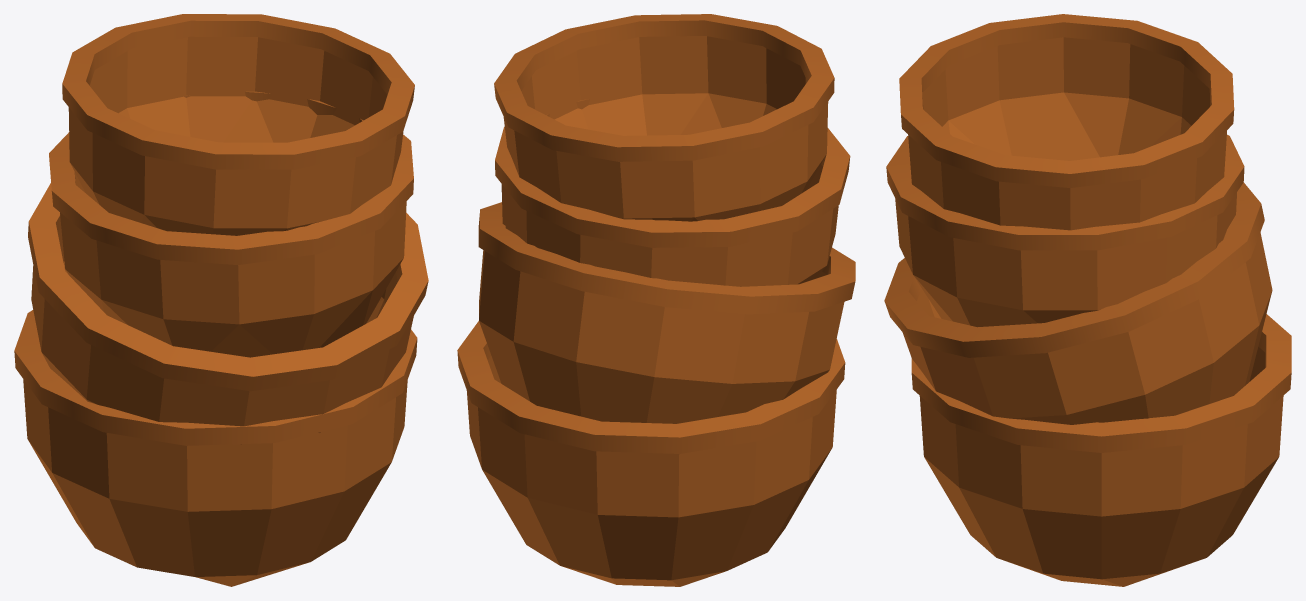
File: SM_pottery_stacked_01.fbx
3 views of the same model, side by side, from view 1: azimuth 30°, elevation 25°; view 2: azimuth 150°, elevation 25°; view 3: azimuth 270°, elevation 25° (orthographic). The views are drawn at different scales.
Parts seen in each view (by area): view 1: Cylinder062; view 2: Cylinder062; view 3: Cylinder062.
Boxes of the visible parts, x1,y1,x2,y2 form: Cylinder062: (14, 14, 428, 586); Cylinder062: (457, 14, 855, 586); Cylinder062: (884, 14, 1291, 586).
Size of the model in its own units: 25.26 by 34.67 by 26.4.
